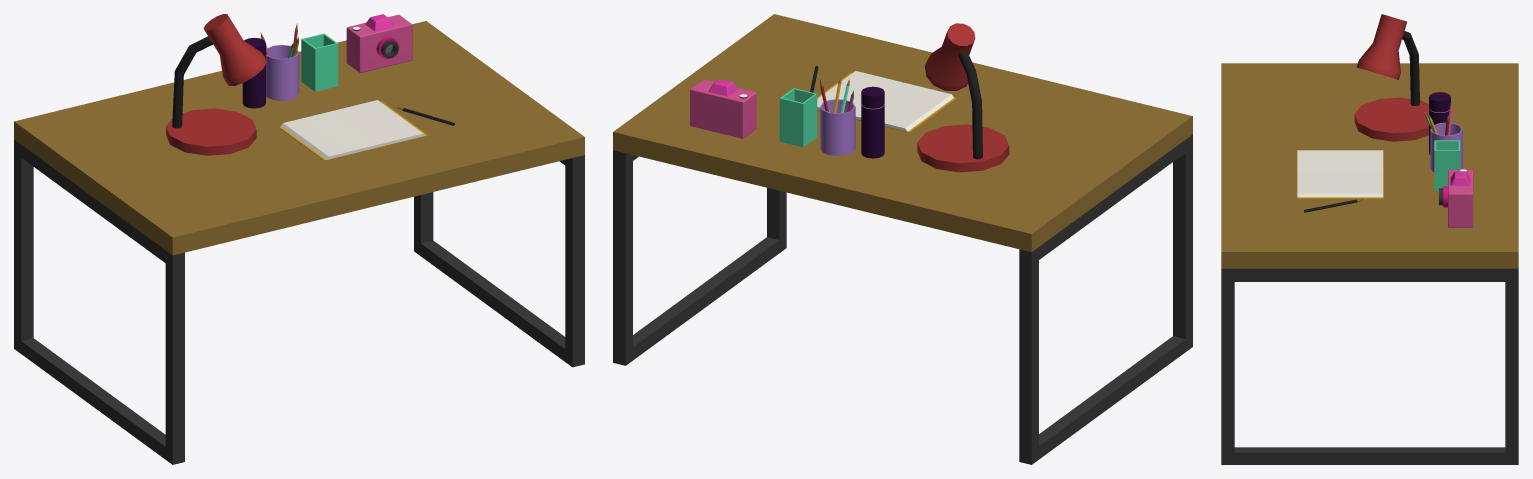
The model's file is table2.glb.
3 renders of one model, left to right at view 1: azimuth 30°, elevation 25°; view 2: azimuth 150°, elevation 25°; view 3: azimuth 270°, elevation 25°, orthographic. The views are drawn at different scales.
Parts seen in each view (by area): view 1: StudyTable, DeskLamp, Diary, Camera, PencilHolder, PenHolder, WaterBottle; view 2: StudyTable, DeskLamp, Diary, Camera, PencilHolder, PenHolder, WaterBottle; view 3: StudyTable, DeskLamp, Diary, Camera, PencilHolder, PenHolder, WaterBottle.
Part boxes in pixels (<box>): StudyTable: <box>14,21,584,464</box>; DeskLamp: <box>166,14,266,155</box>; Diary: <box>279,100,427,160</box>; Camera: <box>346,14,412,73</box>; PencilHolder: <box>301,33,338,91</box>; PenHolder: <box>266,45,299,100</box>; WaterBottle: <box>242,37,265,108</box>; StudyTable: <box>613,14,1192,464</box>; DeskLamp: <box>917,23,1009,172</box>; Diary: <box>817,71,956,132</box>; Camera: <box>690,79,756,138</box>; PencilHolder: <box>779,88,817,147</box>; PenHolder: <box>820,99,855,155</box>; WaterBottle: <box>861,86,884,158</box>; StudyTable: <box>1221,63,1518,464</box>; DeskLamp: <box>1354,14,1429,141</box>; Diary: <box>1297,150,1383,198</box>; Camera: <box>1439,169,1473,227</box>; PencilHolder: <box>1434,140,1460,190</box>; PenHolder: <box>1430,122,1462,171</box>; WaterBottle: <box>1429,92,1450,154</box>.
Bounding box in the file's own units: 0.9144 × 0.7388 × 0.6096.
1 material, 1 textured.
